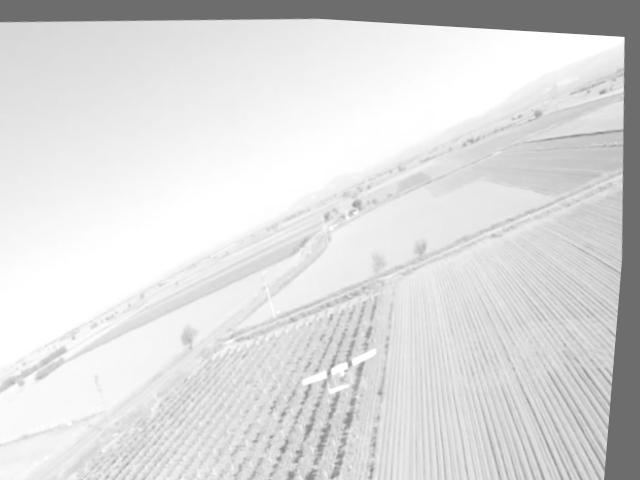hedef: (300, 332, 390, 405)
